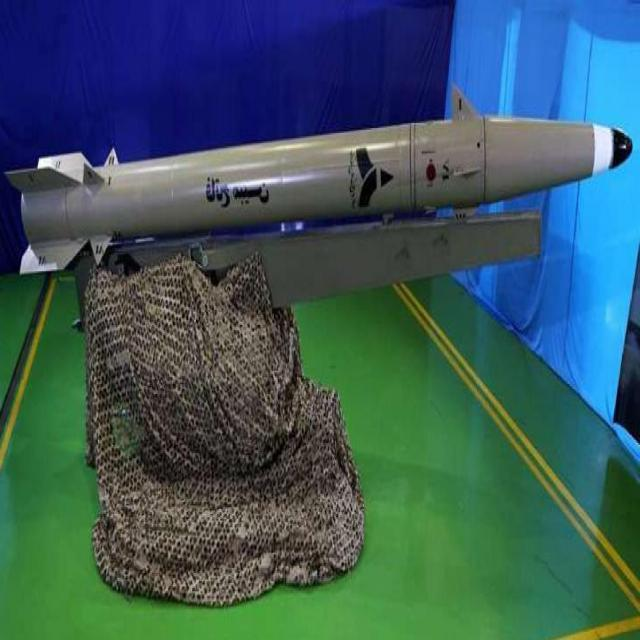missile: (12, 93, 630, 272)
